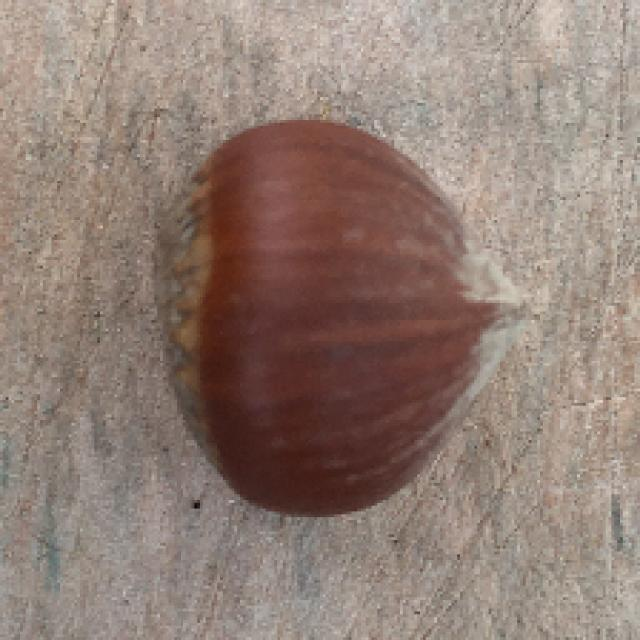qualityHazelnut: (149, 119, 544, 517)
